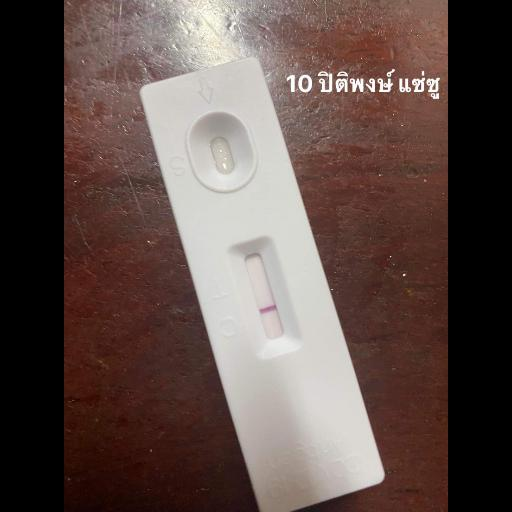Neg: (140, 56, 378, 490)
